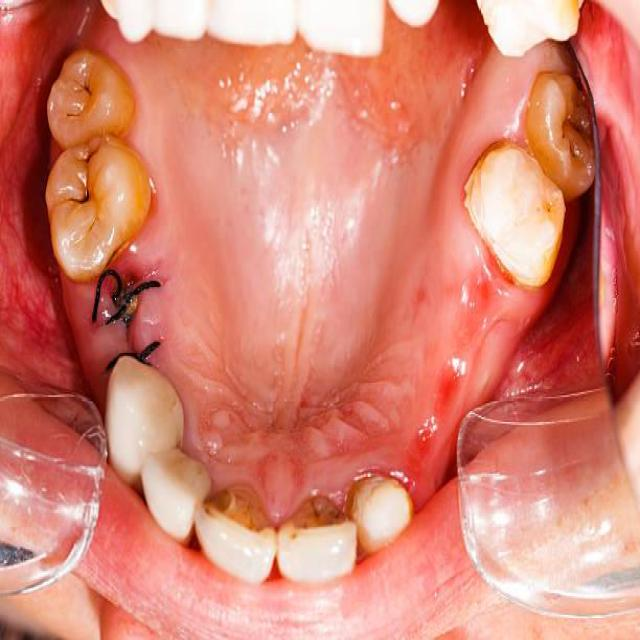caries: (200, 472, 273, 546), (284, 480, 352, 550), (554, 93, 598, 167), (68, 135, 109, 180), (63, 65, 95, 114), (60, 184, 100, 221)
